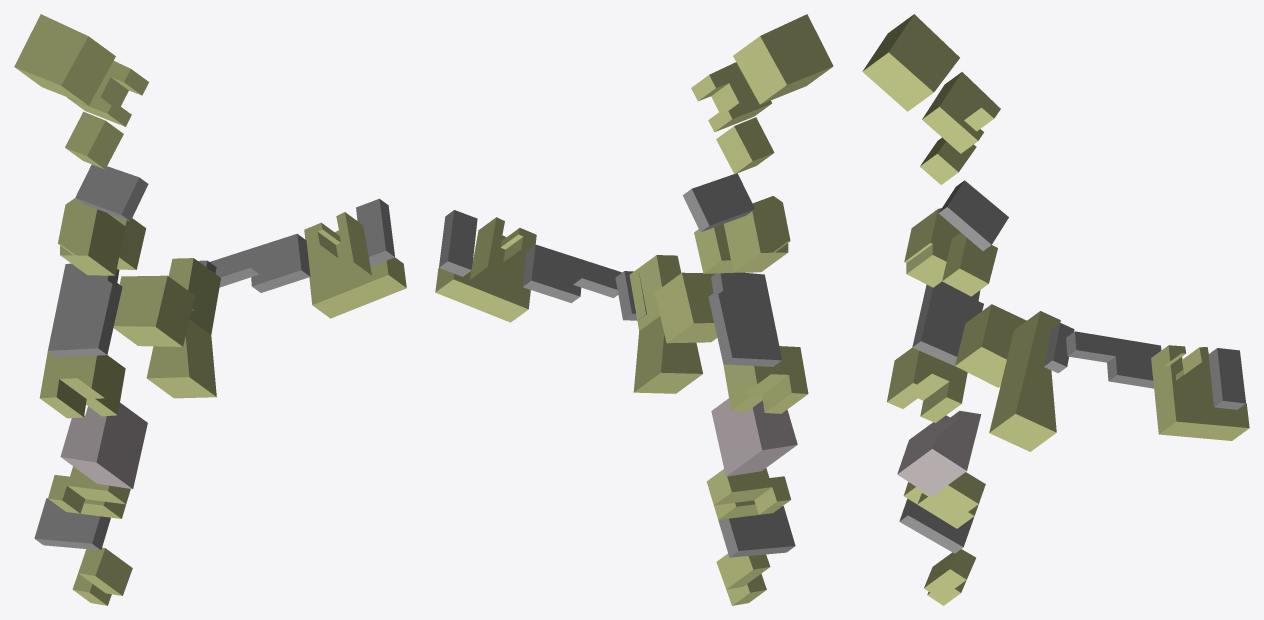
3 renders of one model, left to right at view 1: azimuth 30°, elevation 25°; view 2: azimuth 150°, elevation 25°; view 3: azimuth 330°, elevation 25°, orthographic. The views are drawn at different scales.
Parts seen in each view (by area): view 1: 0_1_1_3_3_1_0_2; view 2: 0_1_1_3_3_1_0_2; view 3: 0_1_1_3_3_1_0_2.
Part boxes in pixels (x1=…): 0_1_1_3_3_1_0_2: x1=14, y1=14, x2=406, y2=605; 0_1_1_3_3_1_0_2: x1=435, y1=14, x2=833, y2=605; 0_1_1_3_3_1_0_2: x1=862, y1=14, x2=1249, y2=605.
Bounding box in the file's own units: 70.97 × 107 × 12.32.
